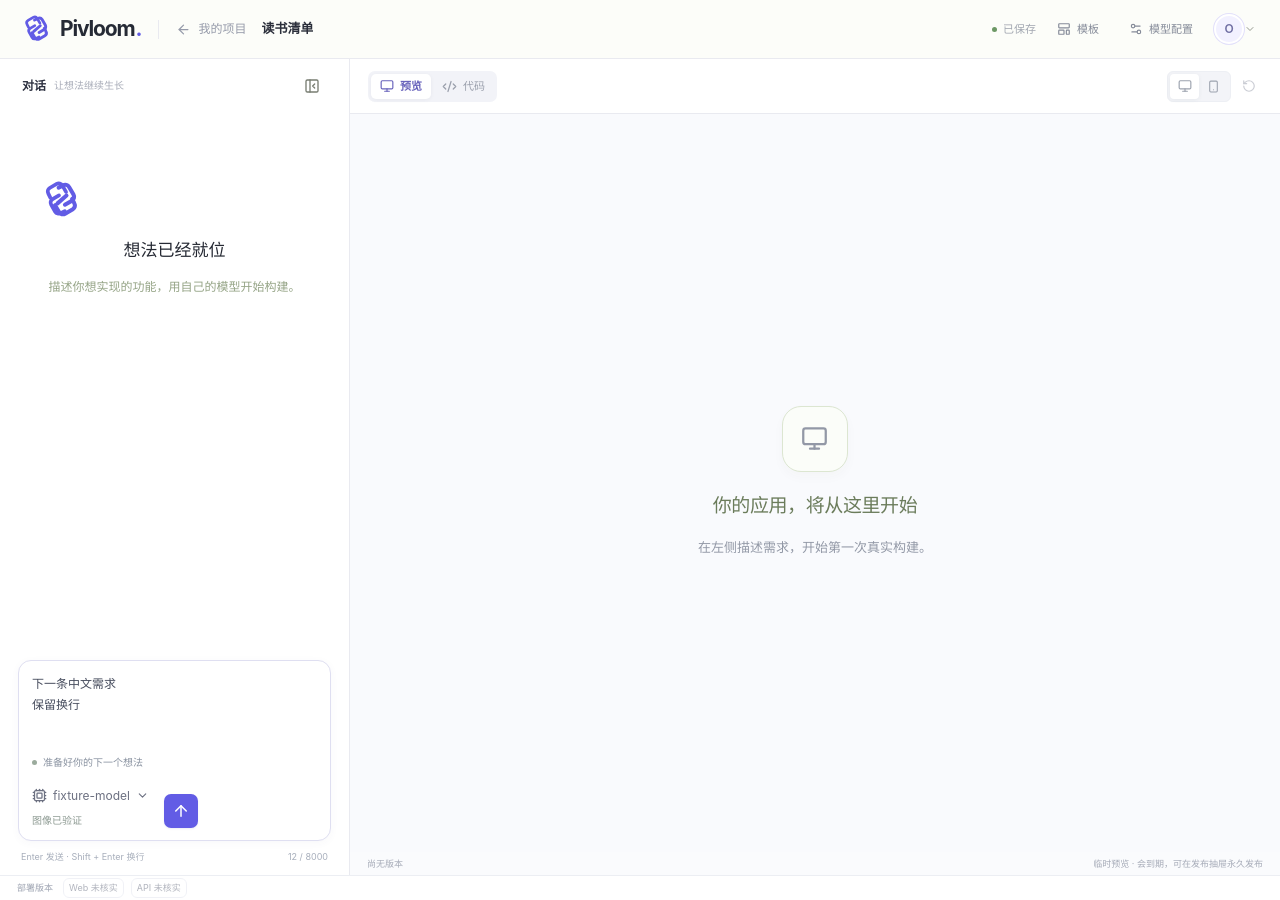
Scenario: keeps the draft after a definite PROJECT_BUSY rejection without queuing or replaying it
Step 1. Click the button named "发送需求" → (181, 810), box [164, 794, 198, 828]
Wait 10000 ms
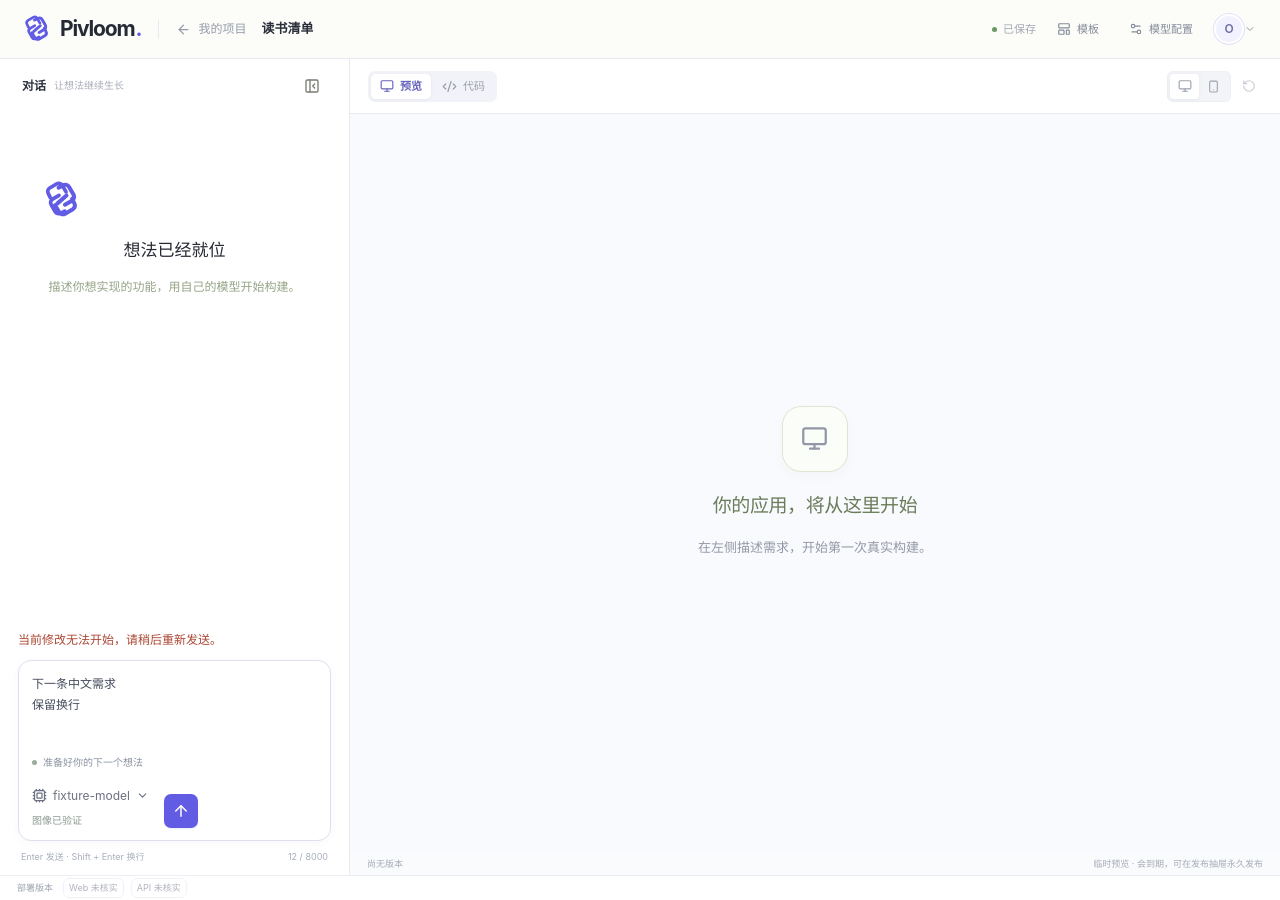
Expected: the text "当前修改无法开始，请稍后重新发送。" is shown, [18, 632, 222, 647]
